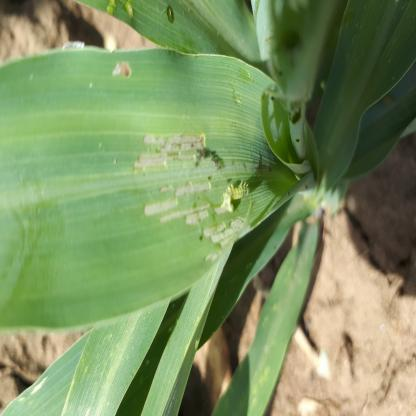armyworm: (112, 393, 132, 416)
